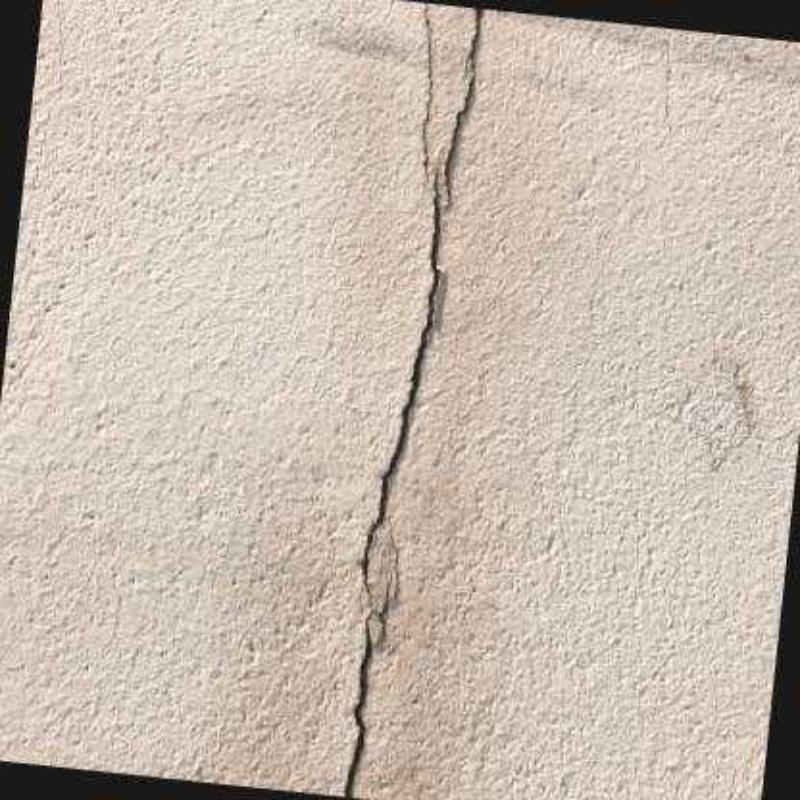pothole: (360, 171, 442, 592), (444, 5, 483, 205), (340, 606, 379, 798), (422, 0, 433, 193)
